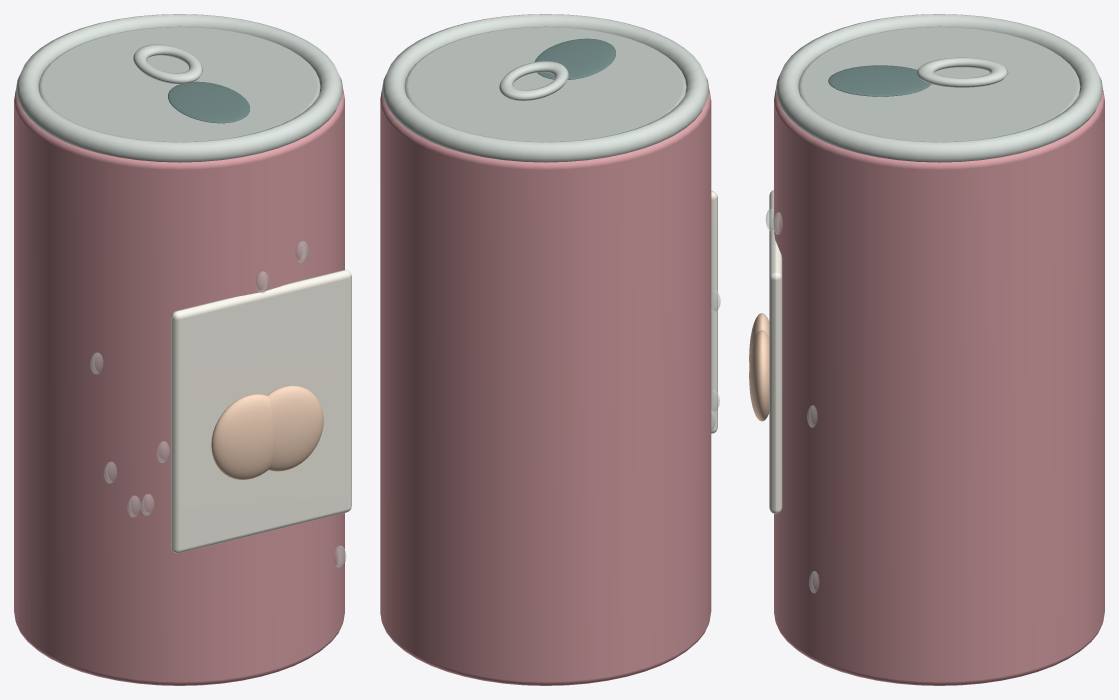
The model's file is soda.glb.
The picture shows the model from 3 angles, left to right: view 1: azimuth 30°, elevation 25°; view 2: azimuth 150°, elevation 25°; view 3: azimuth 270°, elevation 25°; orthographic projection.
Visible parts, largest first — view 1: aluminum can, cream label, recessed can top, rolled aluminum seam, peach icon, opening, condensation bead; view 2: aluminum can, recessed can top, rolled aluminum seam, opening, cream label; view 3: aluminum can, recessed can top, rolled aluminum seam, cream label, opening, peach icon, condensation bead.
Part boxes in pixels (left/top/right/bottom): aluminum can: left=14, top=90, right=344, bottom=685; cream label: left=171, top=270, right=351, bottom=553; recessed can top: left=38, top=26, right=320, bottom=142; rolled aluminum seam: left=16, top=14, right=343, bottom=162; peach icon: left=211, top=385, right=323, bottom=479; opening: left=168, top=81, right=249, bottom=123; condensation bead: left=90, top=241, right=346, bottom=567; aluminum can: left=380, top=90, right=711, bottom=685; recessed can top: left=405, top=26, right=686, bottom=142; rolled aluminum seam: left=382, top=14, right=709, bottom=162; opening: left=535, top=38, right=615, bottom=79; cream label: left=711, top=191, right=717, bottom=433; aluminum can: left=774, top=90, right=1104, bottom=685; recessed can top: left=798, top=26, right=1080, bottom=142; rolled aluminum seam: left=775, top=14, right=1102, bottom=162; cream label: left=769, top=190, right=782, bottom=514; opening: left=828, top=65, right=931, bottom=96; peach icon: left=749, top=313, right=769, bottom=421; condensation bead: left=765, top=208, right=819, bottom=593.
Size of the model in its own units: 0.36 by 0.66 by 0.387.
